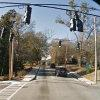Traffic light: (16, 0, 45, 30)
